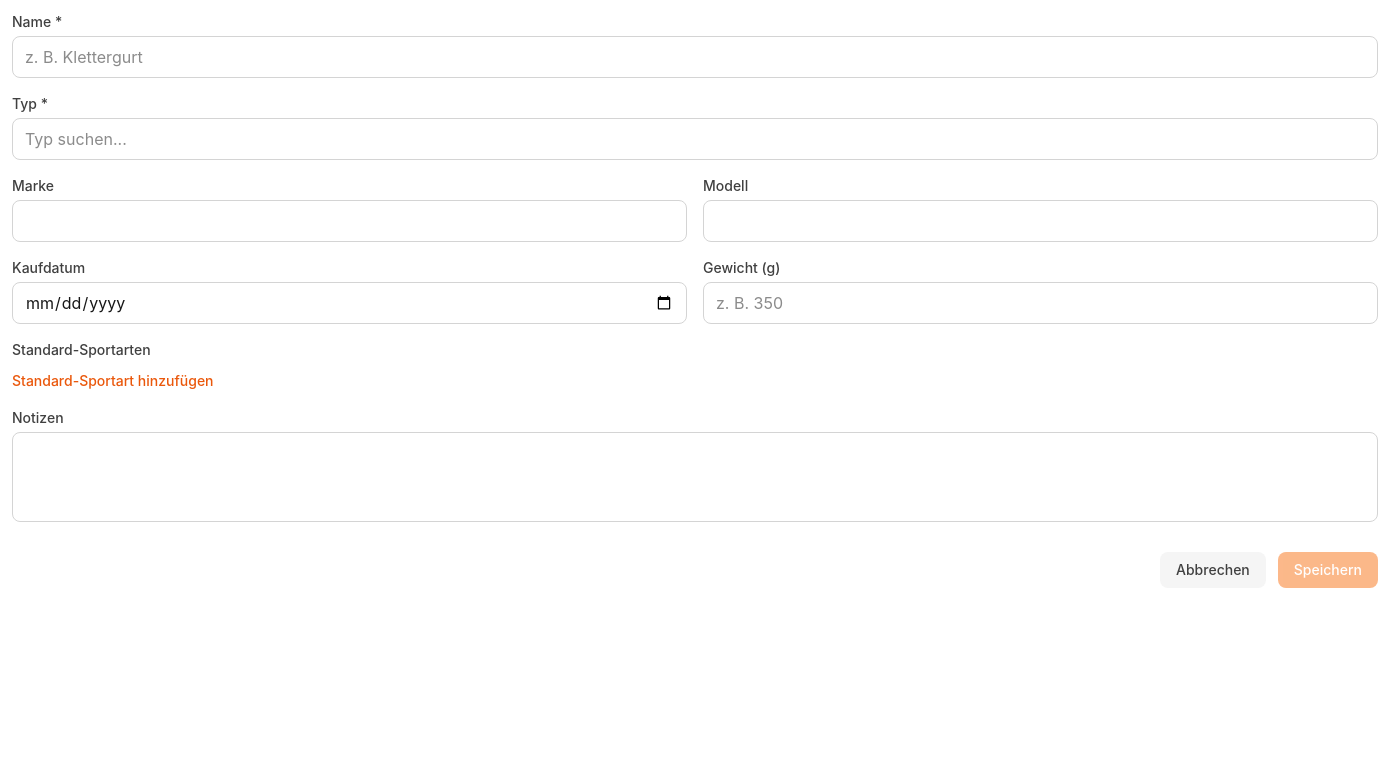
GearForm › hides legacy duplicate climbing harness and keeps current climbing types
Step 1. Focus the dropdown labelled "Typ" → (695, 139), box 12,118 -> 1378,160
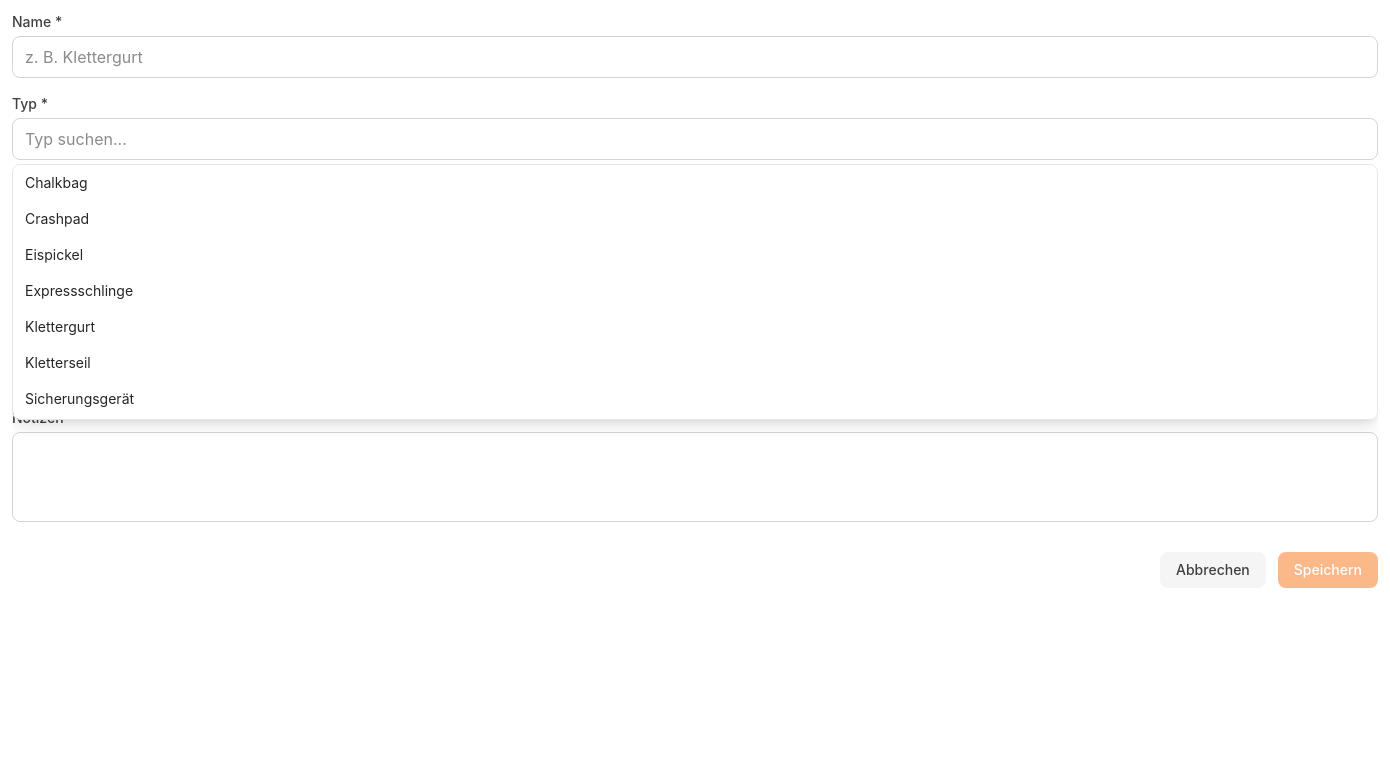
Expected: the number of options "Klettergurt" is 1, 13,309 -> 1377,345
